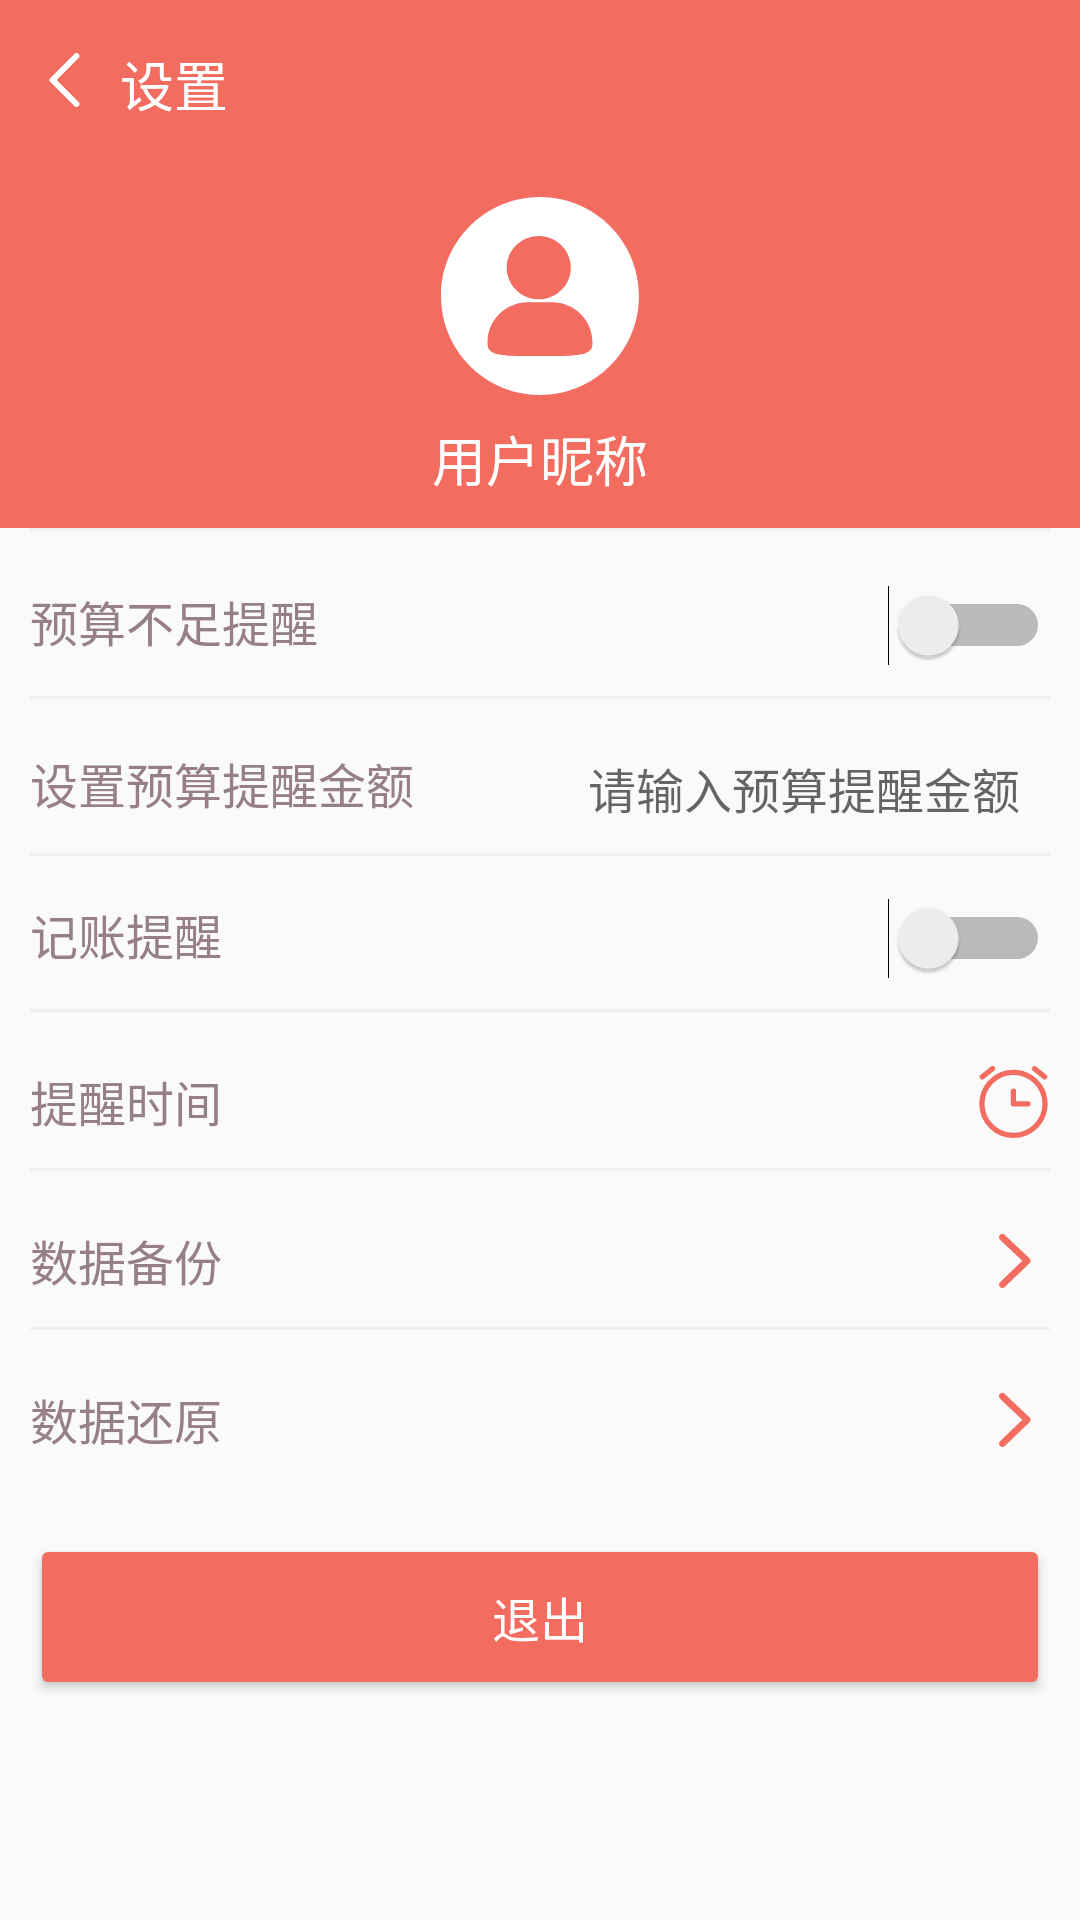

Locate icon controls on the screen. Image size 1080x1920, boxes as (x1, y1, x2, y2).
back: (49, 53, 80, 107)
right: (999, 1234, 1031, 1288), (999, 1393, 1031, 1447)
time: (979, 1066, 1048, 1138)
